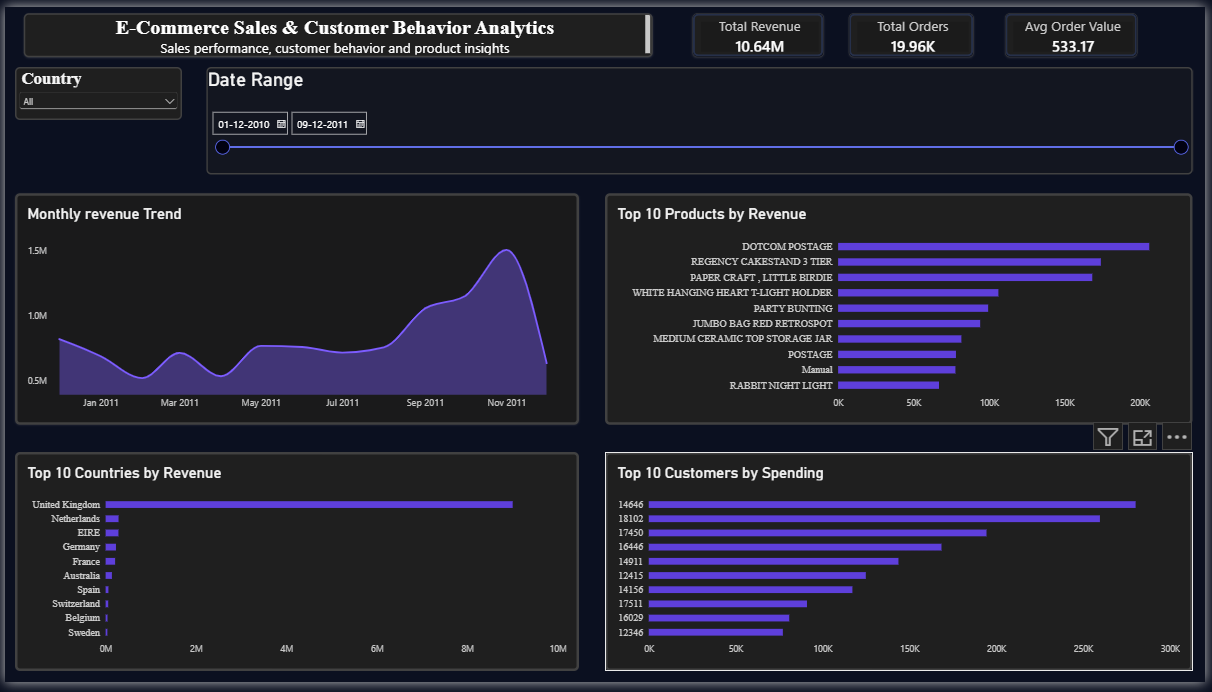

Layout of this report page (visuals, bound fields, positions):
{"tool":"powerbi","page":{"name":"Page 1","canvas":[1920,1080],"ordinal":0},"visuals":[{"type":"cardVisual","title":"Total Revenue","fields":{"Data":["Sum(ecommerce_analytics sales.revenue)"]},"box":[1100,10,210,70],"z":0},{"type":"cardVisual","fields":{"Data":["ecommerce_analytics sales.Average Order Value"]},"box":[1600,10,212,70],"z":3},{"type":"lineChart","title":"Monthly revenue Trend","fields":{"Category":["ecommerce_analytics sales.invoice_date.Variation.Date Hierarchy.Year","ecommerce_analytics sales.invoice_date.Variation.Date Hierarchy.Month"],"Y":["Sum(ecommerce_analytics sales.revenue)"]},"box":[15,297.5,902.5,370],"z":4},{"type":"clusteredBarChart","title":"Top 10 Products by Revenue","fields":{"Category":["ecommerce_analytics sales.description"],"Y":["Sum(ecommerce_analytics sales.revenue)"]},"box":[960,297.5,940,370],"z":5},{"type":"clusteredBarChart","title":"Top 10 Countries by Revenue","fields":{"Category":["ecommerce_analytics sales.country"],"Y":["Sum(ecommerce_analytics sales.revenue)"]},"box":[15,712.5,902.5,350],"z":6},{"type":"clusteredBarChart","title":"Top 10 Customers by Spending","fields":{"Category":["ecommerce_analytics sales.customer_id"],"Y":["Sum(ecommerce_analytics sales.revenue)"]},"box":[960,712.5,940,350],"z":7},{"type":"textbox","box":[30,10,1006,70],"z":8},{"type":"slicer","title":"Date Range","fields":{"Values":["ecommerce_analytics sales.invoice_date"]},"box":[322,96,1578,172],"z":10},{"type":"cardVisual","fields":{"Data":["Count(ecommerce_analytics sales.invoice_no)"]},"box":[1350,10,200,70],"z":12},{"type":"slicer","fields":{"Values":["ecommerce_analytics sales.country"]},"box":[15,95,267.5,85],"z":13}]}

Visuals, with their boxes in screenshot pixels (x1, y1, x2, y2), scaled from the page's 1920x1080 canvas onto the 1212x692 screenshot:
"Total Revenue" cardVisual: box=[694, 6, 827, 51]
cardVisual - ecommerce_analytics sales.Average Order Value: box=[1010, 6, 1144, 51]
"Monthly revenue Trend" lineChart: box=[9, 191, 579, 428]
"Top 10 Products by Revenue" clusteredBarChart: box=[606, 191, 1199, 428]
"Top 10 Countries by Revenue" clusteredBarChart: box=[9, 457, 579, 681]
"Top 10 Customers by Spending" clusteredBarChart: box=[606, 457, 1199, 681]
textbox: box=[19, 6, 654, 51]
"Date Range" slicer: box=[203, 62, 1199, 172]
cardVisual - Count(ecommerce_analytics sales.invoice_no): box=[852, 6, 978, 51]
slicer - ecommerce_analytics sales.country: box=[9, 61, 178, 115]
